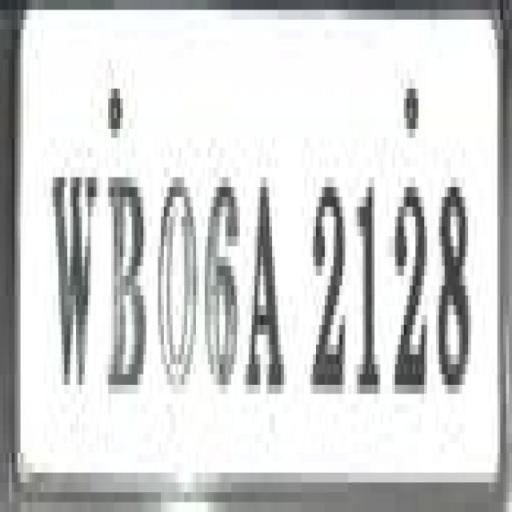number plate: (0, 19, 497, 512)
